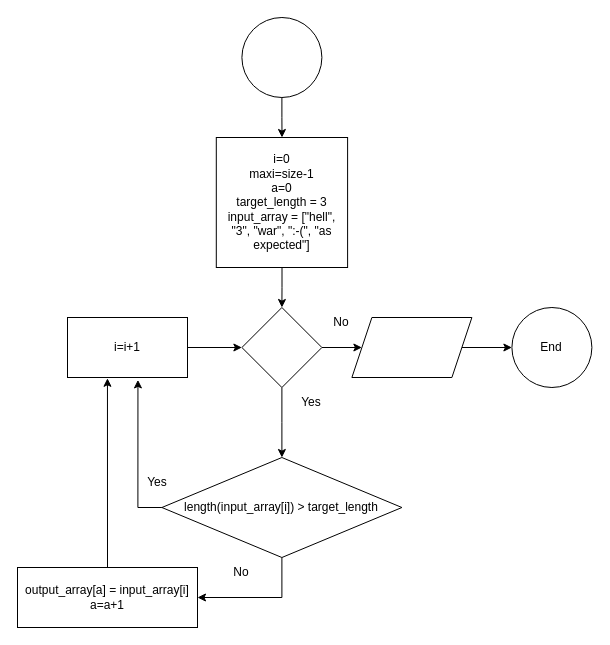
This 610x645 diagram has some shape labels left out. The box of each missing label's shape, as (x1, y1, x2, y2) in pixels:
i < maxi: (241, 306, 322, 388)
output_array: (351, 316, 472, 378)
Start: (241, 16, 322, 98)
